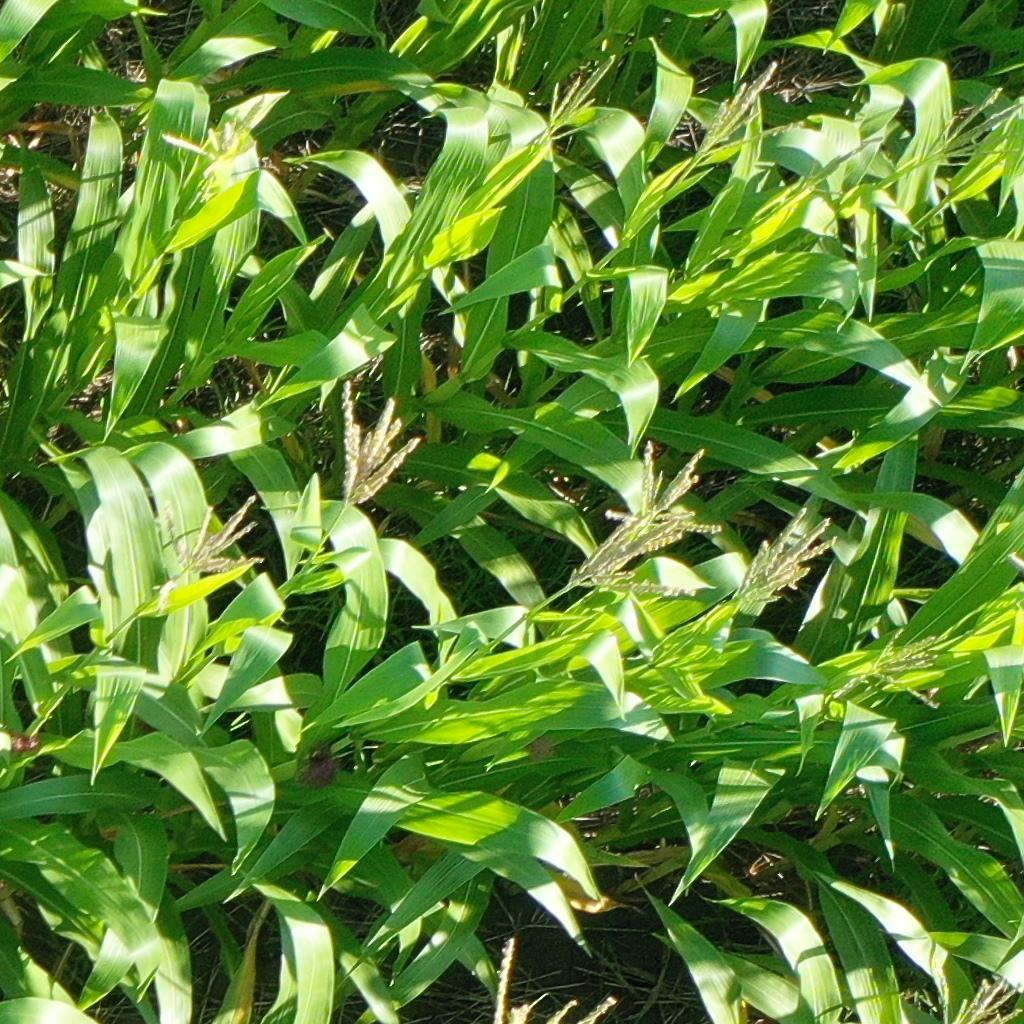Tassel: (566, 509, 702, 602), (727, 506, 843, 614), (600, 436, 724, 536), (687, 59, 803, 164), (485, 933, 618, 1024), (335, 376, 422, 509), (156, 92, 273, 188), (826, 623, 946, 715), (156, 490, 269, 581), (916, 78, 1024, 165), (531, 50, 624, 150), (793, 135, 884, 196), (931, 965, 1024, 1024)
